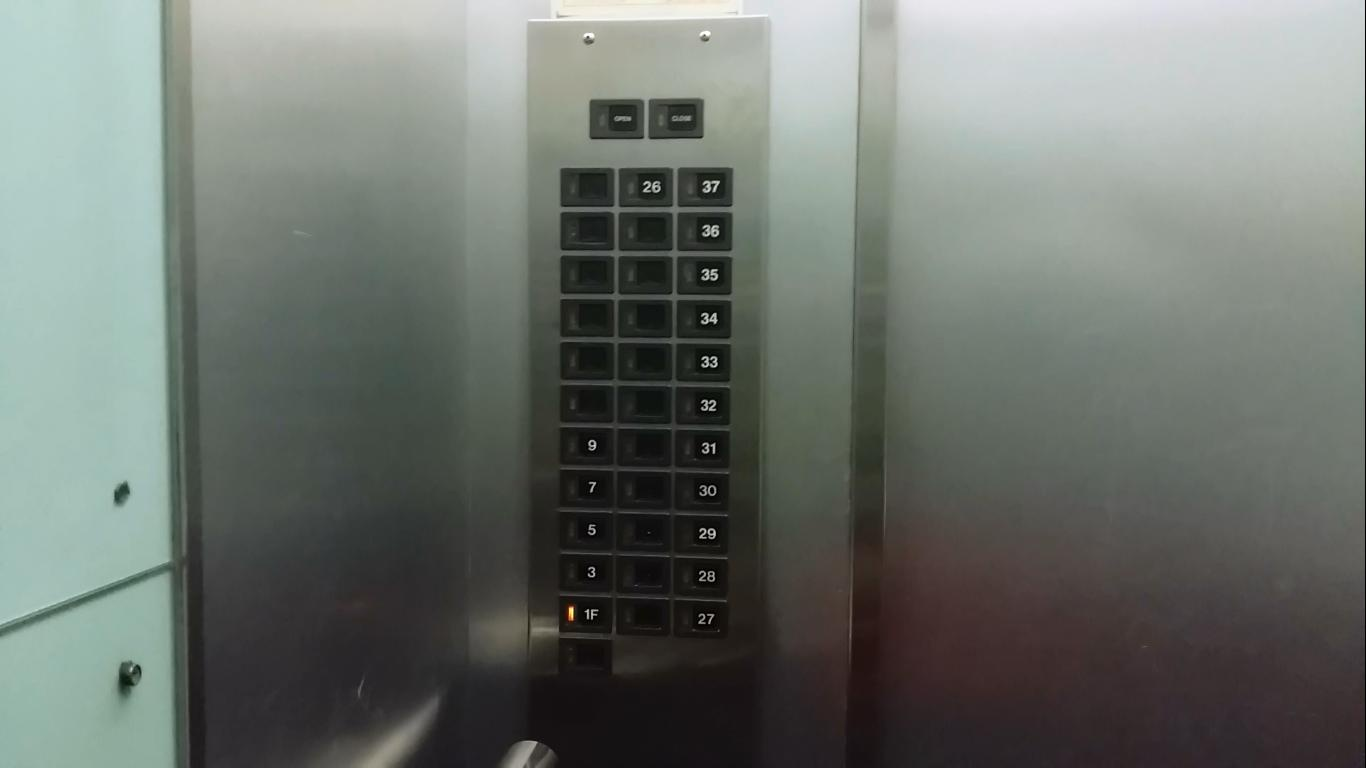1F: (559, 597, 614, 633)
26: (618, 168, 675, 207)
27: (672, 601, 728, 641)
28: (672, 555, 727, 597)
29: (674, 516, 733, 554)
3: (560, 553, 613, 593)
30: (673, 472, 729, 512)
31: (675, 428, 730, 469)
32: (673, 387, 729, 426)
33: (675, 344, 732, 382)
34: (675, 301, 733, 339)
35: (675, 255, 733, 296)
36: (678, 212, 734, 251)
37: (678, 167, 733, 206)
5: (557, 512, 613, 548)
7: (559, 471, 616, 509)
9: (560, 428, 615, 467)
empty: (614, 428, 674, 470), (560, 209, 617, 253), (615, 515, 674, 557), (558, 342, 617, 384), (614, 556, 672, 597), (615, 597, 671, 639), (615, 473, 674, 512), (617, 342, 673, 383), (618, 211, 675, 251), (617, 386, 671, 427), (559, 168, 613, 209), (617, 298, 675, 336), (618, 257, 673, 297), (560, 299, 616, 338), (559, 386, 616, 424), (561, 257, 617, 294)
text: (590, 98, 644, 139), (648, 98, 704, 136)
